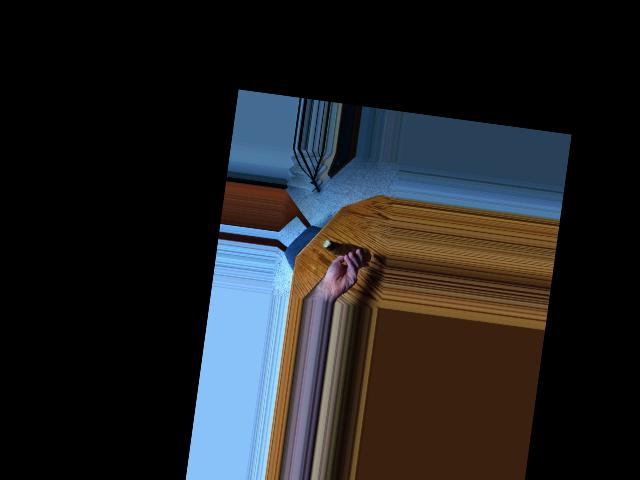sweet_potato: (317, 239, 372, 261)
